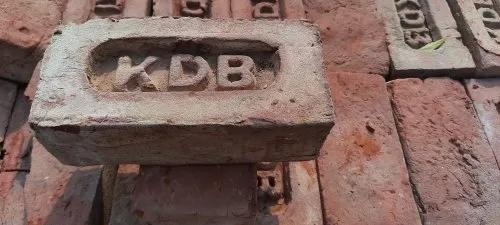brick: (31, 18, 335, 127), (387, 76, 500, 224), (321, 69, 422, 225), (379, 0, 474, 68), (459, 0, 500, 66)
